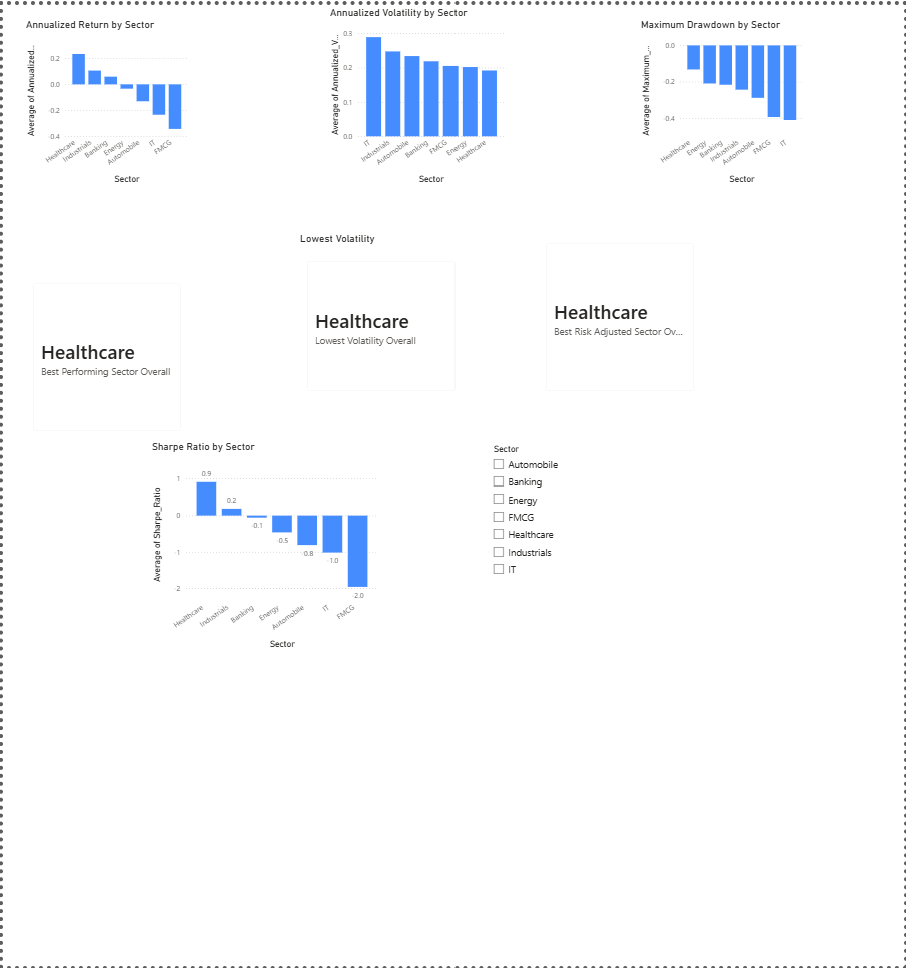

The dashboard page shown, as its layout file describes it:
{"tool":"powerbi","page":{"name":"Sector Analysis","canvas":[1500,1600],"ordinal":2},"visuals":[{"type":"clusteredColumnChart","title":"Annualized Return by Sector","fields":{"Y":["Avg(stock_summary.Annualized_Return)"],"Category":["stock_summary.Sector"]},"box":[32.2,24.6,280,280],"z":0},{"type":"clusteredColumnChart","title":"Annualized Volatility by Sector","fields":{"Category":["stock_summary.Sector"],"Y":["Avg(stock_summary.Annualized_Volatility)"]},"box":[540,3.3,300,300],"z":1000},{"type":"clusteredColumnChart","title":"Maximum Drawdown by Sector","fields":{"Category":["stock_summary.Sector"],"Y":["Avg(stock_summary.Maximum_Drawdown)"]},"box":[1056.7,23.3,280,280],"z":2000},{"type":"cardVisual","fields":{"Data":["Processed.Best Performing Sector Overall"]},"box":[33.3,446.7,280,280],"z":3000},{"type":"cardVisual","title":"Lowest Volatility","fields":{"Data":["Processed.Lowest Volatility Overall"]},"box":[490,380,280,280],"z":4000},{"type":"cardVisual","fields":{"Data":["Processed.Best Risk Adjusted Sector Overall"]},"box":[886.7,380,280,280],"z":5000},{"type":"clusteredColumnChart","title":"Sharpe Ratio by Sector","fields":{"Category":["stock_summary.Sector"],"Y":["Avg(stock_summary.Sharpe_Ratio)"]},"box":[242.5,727.5,386.7,350],"z":6000},{"type":"slicer","fields":{"Values":["stock_summary.Sector"]},"box":[802.5,727.5,170,300],"z":7000}]}

Visuals, with their boxes in screenshot pixels (x1, y1, x2, y2), scaled from the page's 1500x1600 canvas onto the 906x968 screenshot:
"Annualized Return by Sector" clusteredColumnChart: bbox=[19, 15, 189, 184]
"Annualized Volatility by Sector" clusteredColumnChart: bbox=[326, 2, 507, 183]
"Maximum Drawdown by Sector" clusteredColumnChart: bbox=[638, 14, 807, 183]
cardVisual - Processed.Best Performing Sector Overall: bbox=[20, 270, 189, 440]
"Lowest Volatility" cardVisual: bbox=[296, 230, 465, 399]
cardVisual - Processed.Best Risk Adjusted Sector Overall: bbox=[536, 230, 705, 399]
"Sharpe Ratio by Sector" clusteredColumnChart: bbox=[146, 440, 380, 652]
slicer - stock_summary.Sector: bbox=[485, 440, 587, 622]
